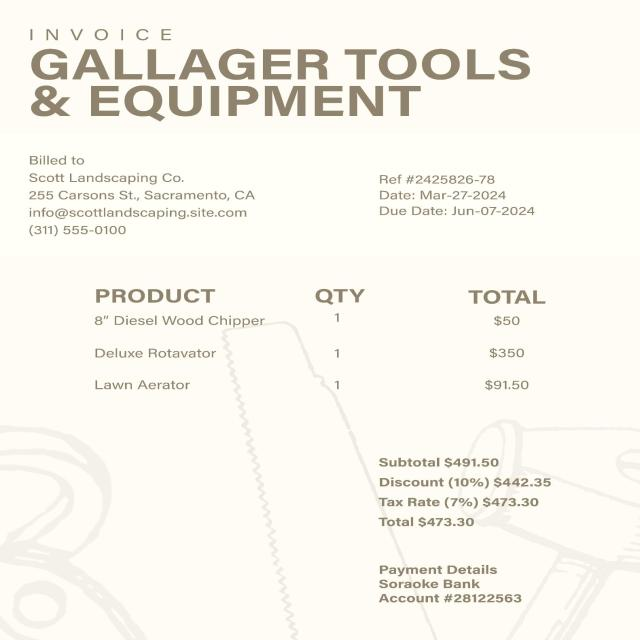paragraph: (18, 44, 546, 128), (12, 148, 278, 248), (370, 453, 561, 534), (365, 554, 550, 614), (370, 165, 544, 225), (14, 18, 181, 44)
table: (78, 266, 566, 417)
